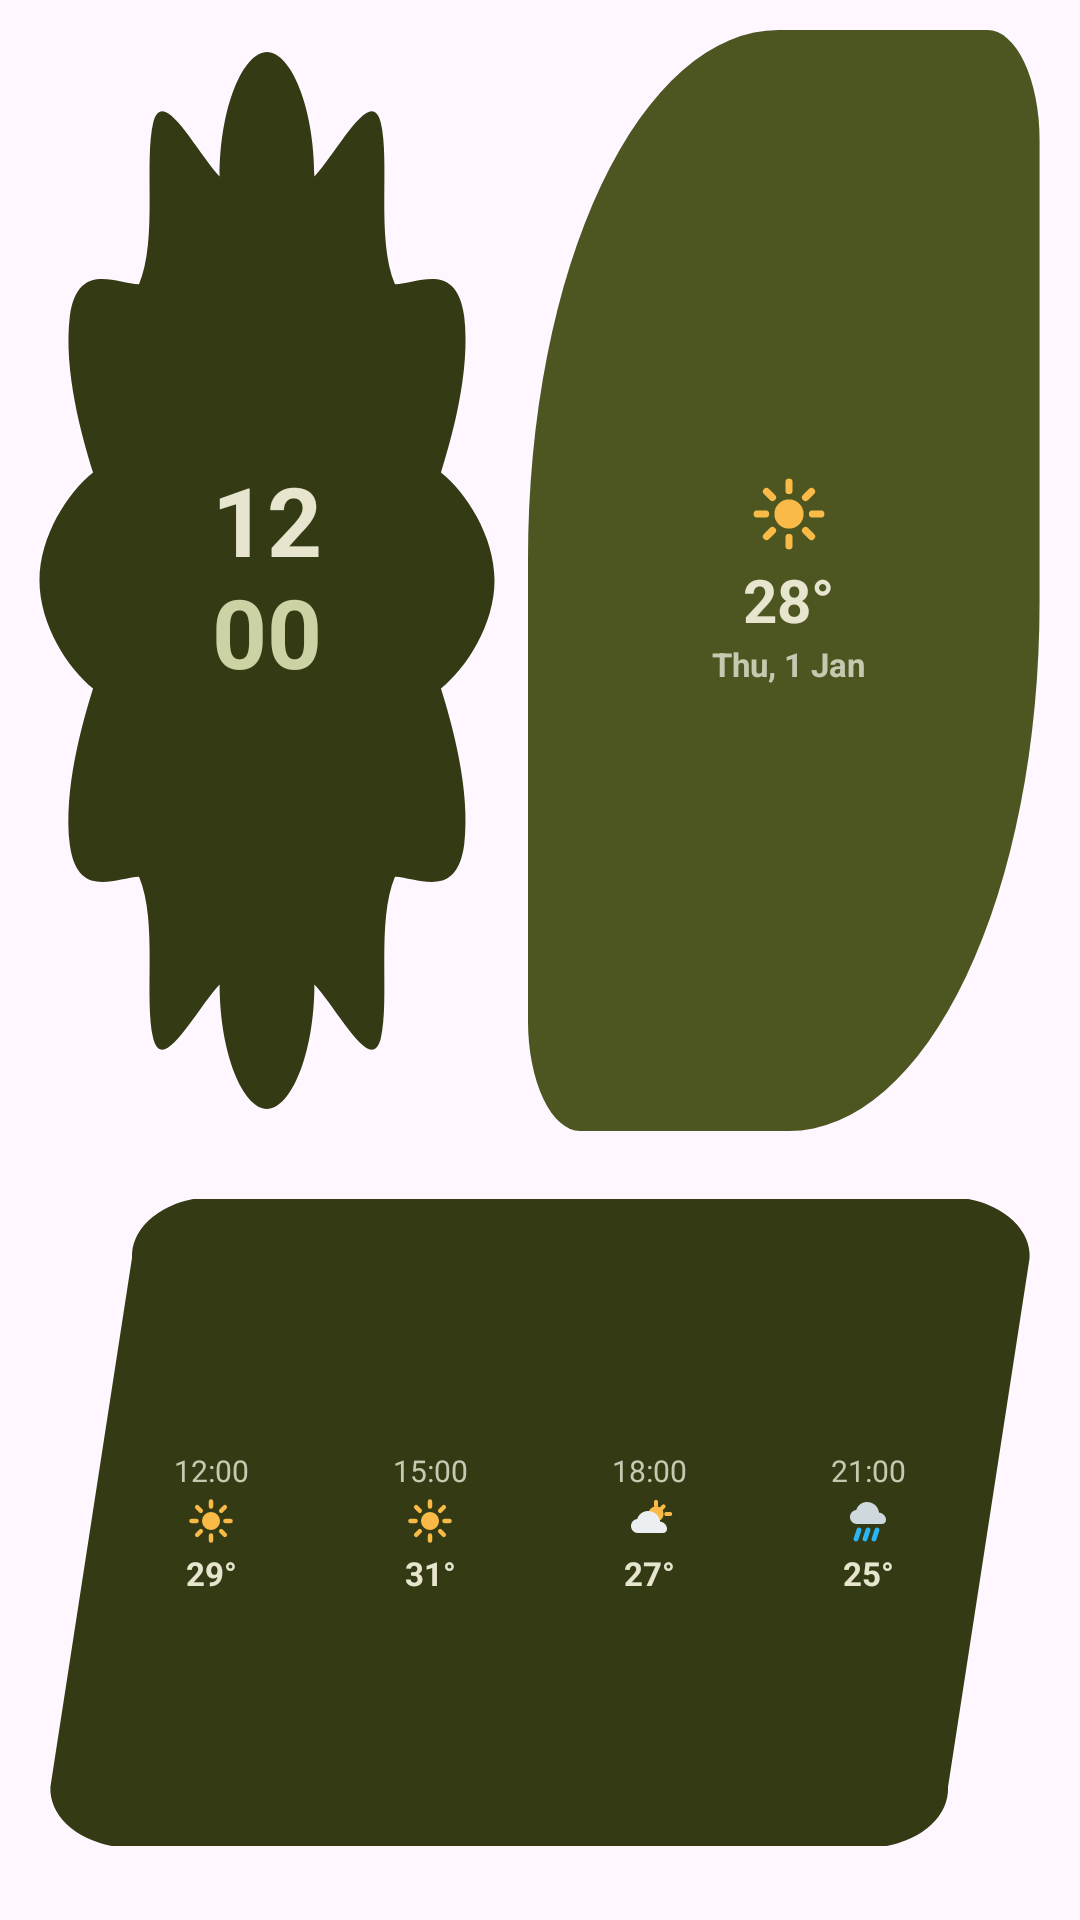

Named icons in this screenshot (1080 × 1920) and their bounding boxes, bbox=[x1, y1, x2, y2]:
weather partly cloudy: bbox=[631, 1500, 672, 1533]
weather rainy: bbox=[850, 1502, 886, 1542]
weather sunny: bbox=[753, 478, 825, 550], bbox=[189, 1499, 233, 1543], bbox=[408, 1499, 452, 1543]
